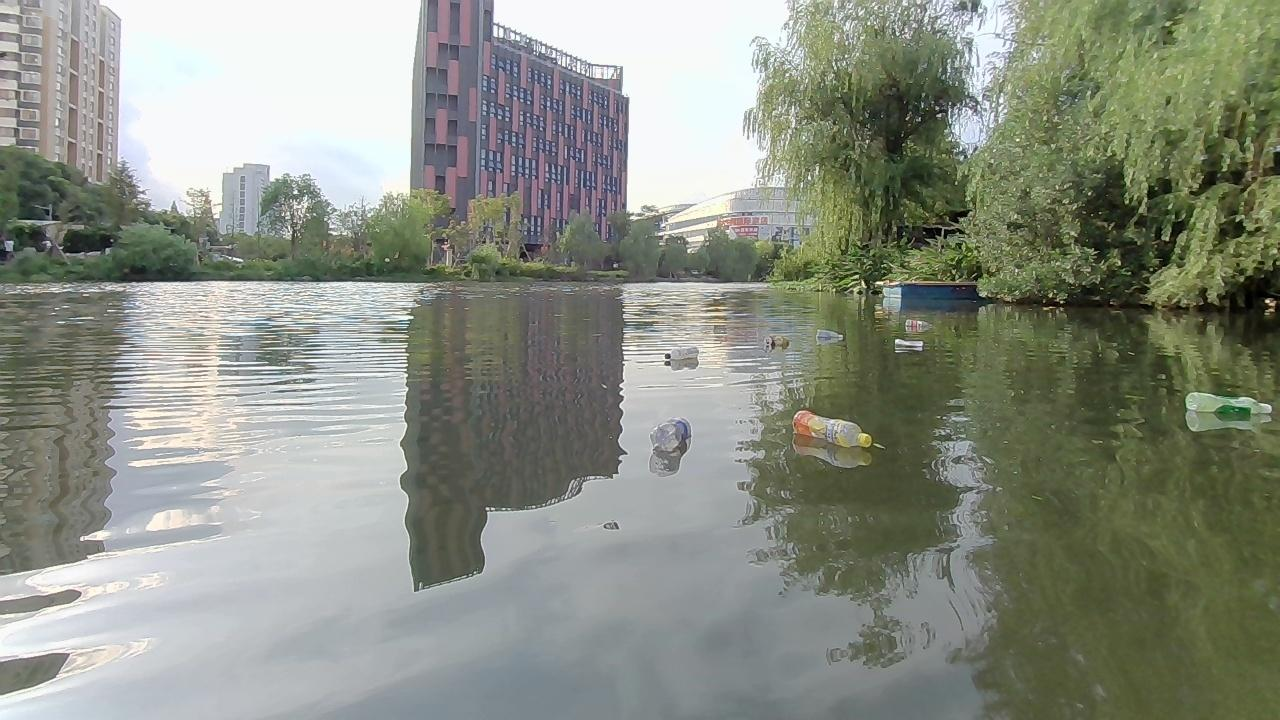bottle: (793, 406, 876, 448), (1189, 390, 1271, 419), (648, 414, 691, 452), (663, 346, 700, 364), (812, 327, 846, 344), (894, 334, 924, 352), (761, 326, 784, 345), (903, 317, 930, 329)
